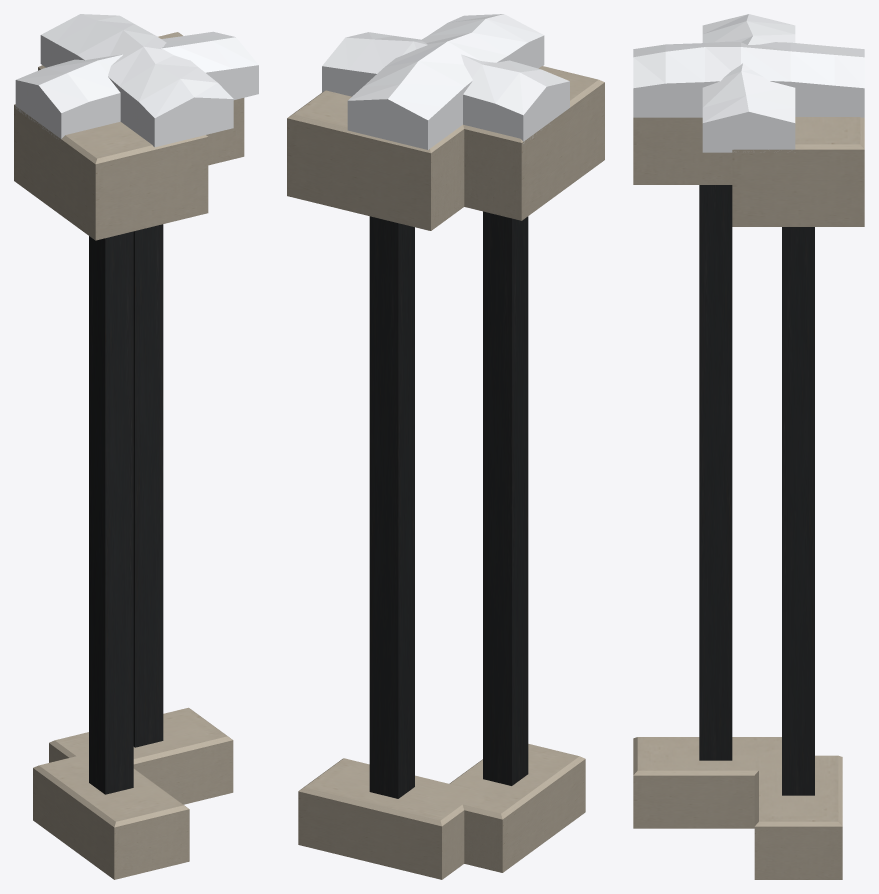
The model's file is railing_snow_corner.glb.
3 renders of one model, left to right at view 1: azimuth 30°, elevation 25°; view 2: azimuth 150°, elevation 25°; view 3: azimuth 270°, elevation 25°, orthographic. The views are drawn at different scales.
Visible parts, largest first — view 1: canonical_base, snow_accumulation; view 2: canonical_base, snow_accumulation; view 3: canonical_base, snow_accumulation.
Boxes of the visible parts, x1=… form: canonical_base: x1=14, y1=32, x2=244, y2=879; snow_accumulation: x1=15, y1=14, x2=258, y2=147; canonical_base: x1=287, y1=66, x2=604, y2=879; snow_accumulation: x1=322, y1=14, x2=569, y2=149; canonical_base: x1=633, y1=117, x2=864, y2=879; snow_accumulation: x1=633, y1=14, x2=864, y2=152.
Bounding box in the file's own units: 0.3 × 1.12 × 0.3.
3 materials, 2 textured.
